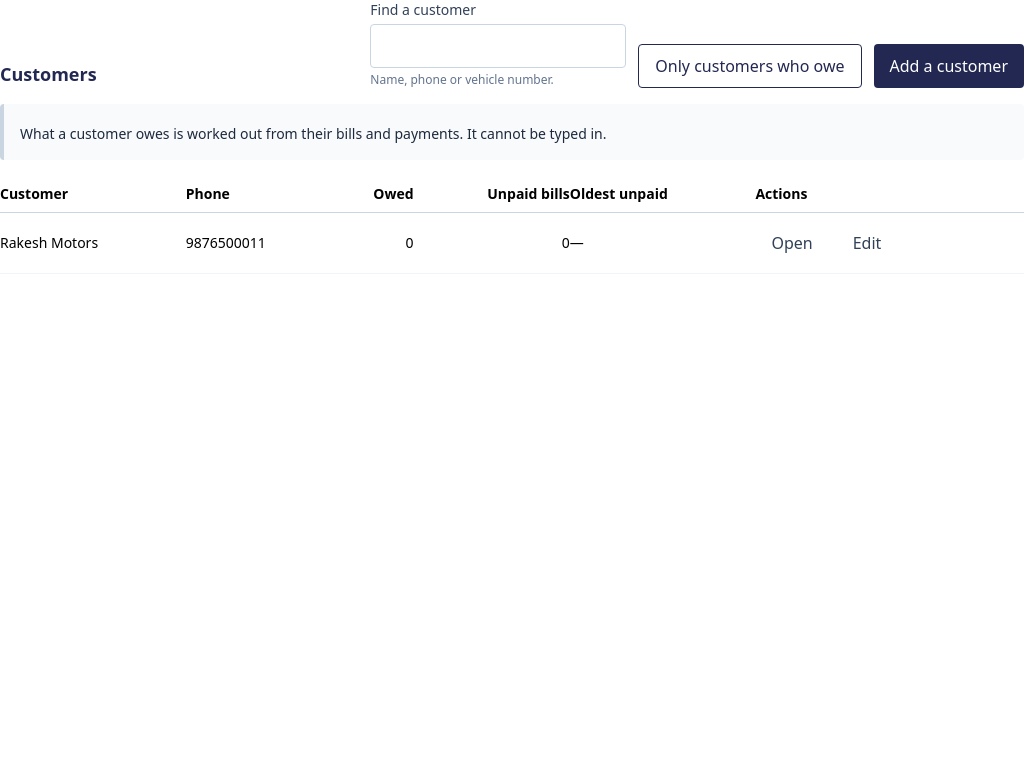
Test: the list › still shows a settled customer’s figures and history once they have paid up
Expected: the text "Rakesh Motors" is shown, [0,213,186,274]
Expected: the number of cells "0" is 2, [337,213,414,274]; [414,213,570,274]
Step 1. Click the button "Open" → point(792, 243), box [755,221,829,265]
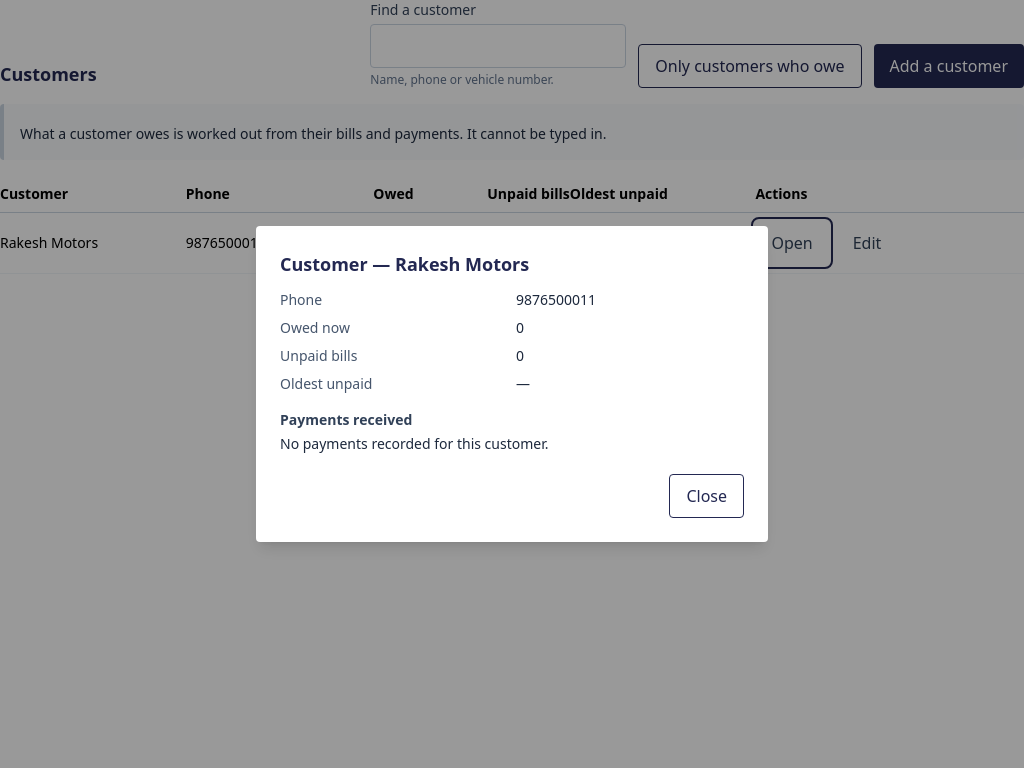
Result: the heading "Payments received" is shown at [280,410,412,429]
